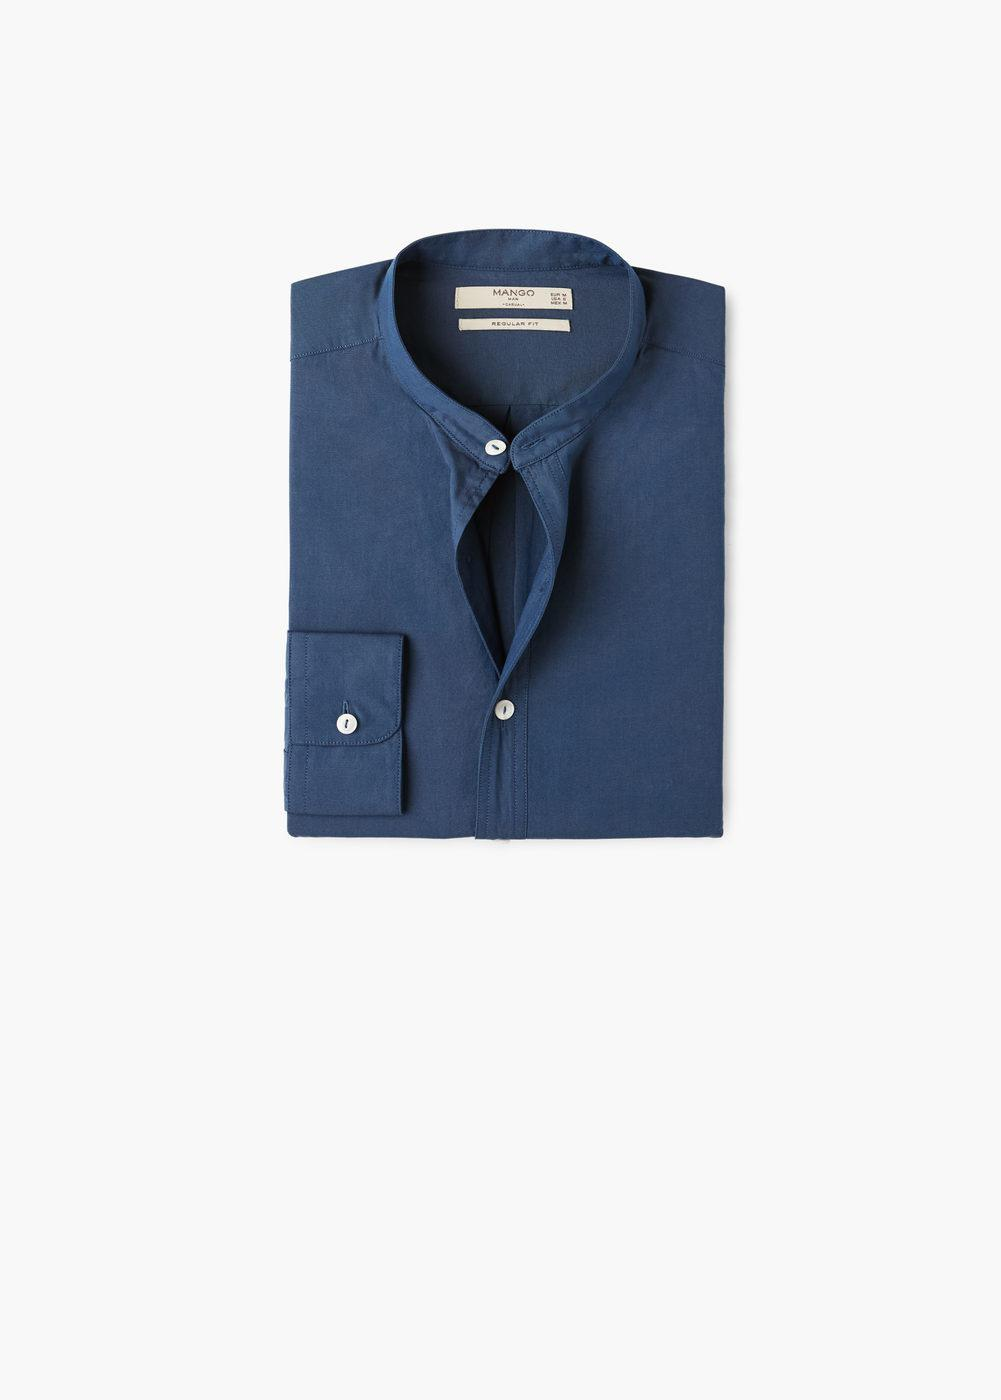teeshirt: (233, 214, 842, 942)
